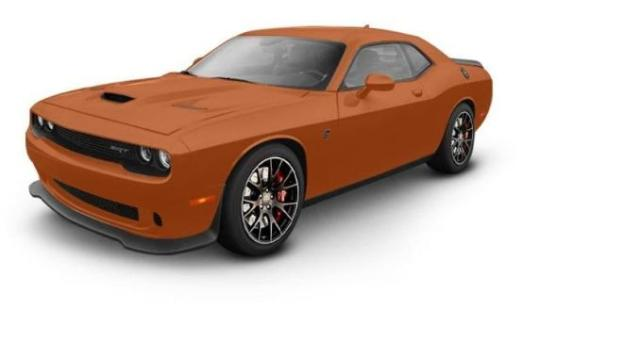dodge: (24, 24, 494, 258)
